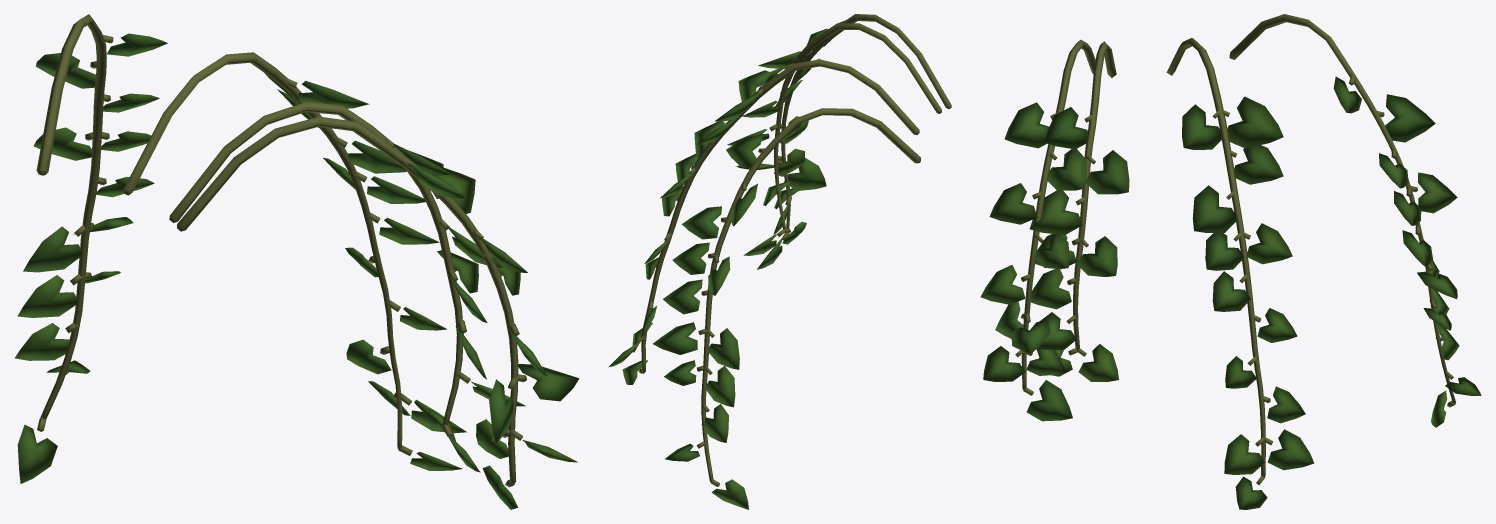
File: rim_ivy.glb
3 views of the same model, side by side, from view 1: azimuth 30°, elevation 25°; view 2: azimuth 150°, elevation 25°; view 3: azimuth 270°, elevation 25° (orthographic). The views are drawn at different scales.
Visible parts, largest first — view 1: Sammel Pflanze, Sammel Putz; view 2: Sammel Pflanze, Sammel Putz; view 3: Sammel Pflanze, Sammel Putz.
Boxes of the visible parts, x1,y1,x2,y2 form: Sammel Pflanze: (15, 33, 579, 509); Sammel Putz: (36, 14, 526, 487); Sammel Pflanze: (609, 20, 845, 509); Sammel Putz: (636, 14, 951, 486); Sammel Pflanze: (980, 76, 1481, 509); Sammel Putz: (1015, 14, 1455, 485).
Size of the model in its own units: 0.3045 by 0.3598 by 0.4161.
